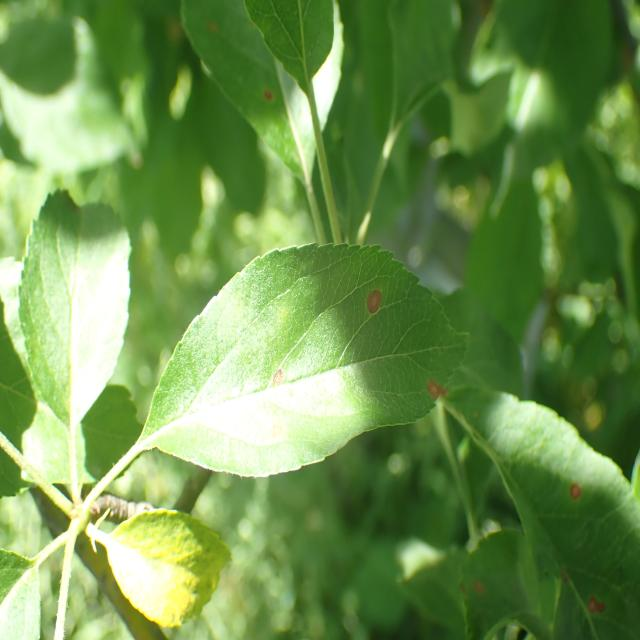frog-eye-leaf-spot: (140, 242, 470, 479), (474, 390, 640, 640), (180, 0, 320, 186)
